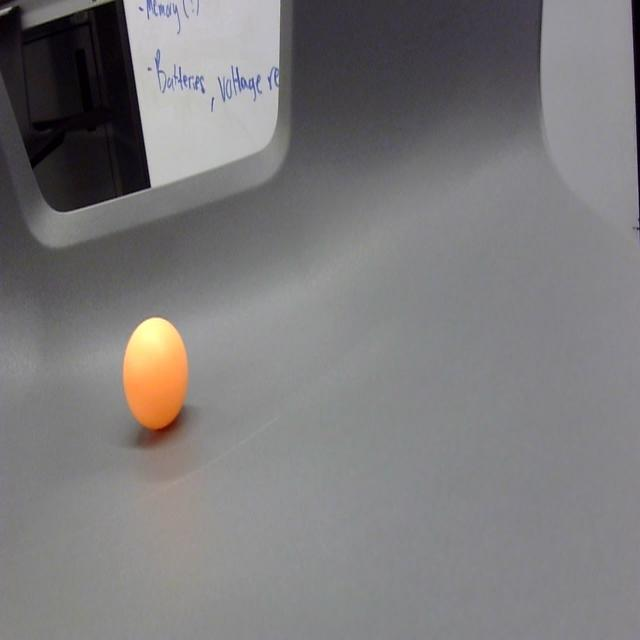ball: (120, 308, 190, 435)
